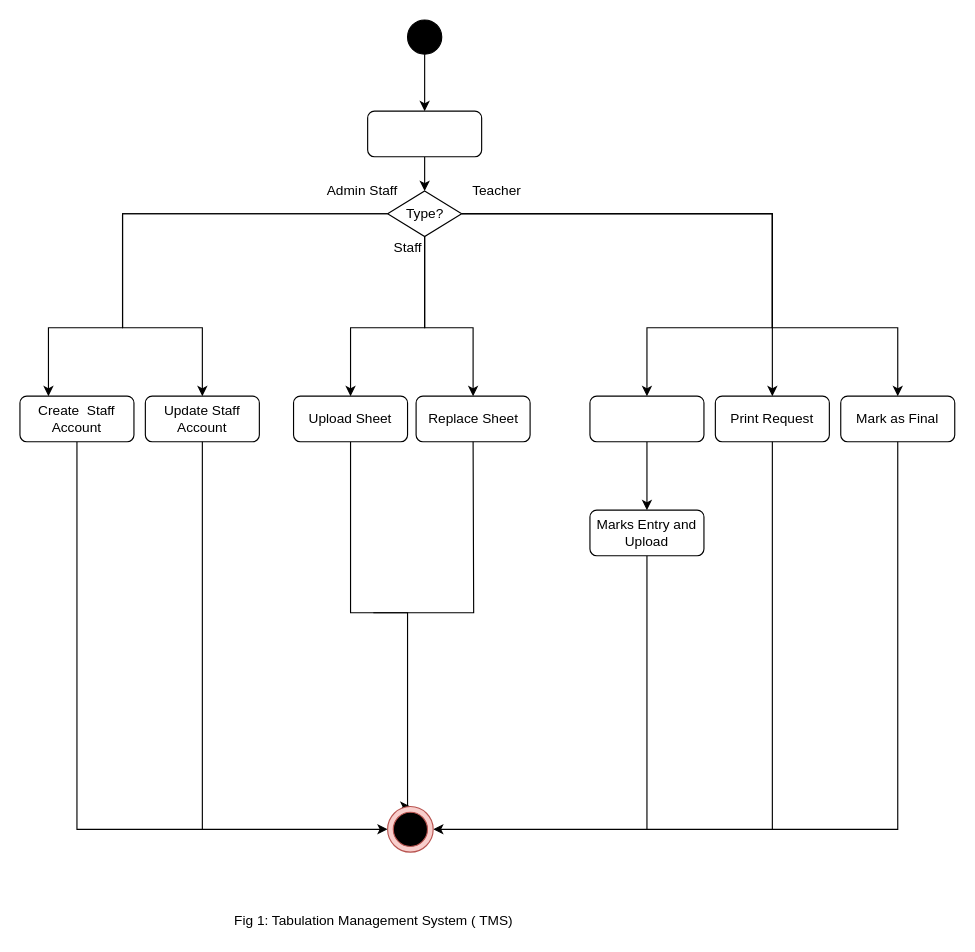
The diagram is 975 pixels wide and 952 high, and some of its shapes have lost their labels. The shapes that lost their labels are listed below. From the top down, each one's centre as x and y in pixels, then its label:
At point (424, 133): "User Account Management".
At point (646, 418): "Request Sheet".
